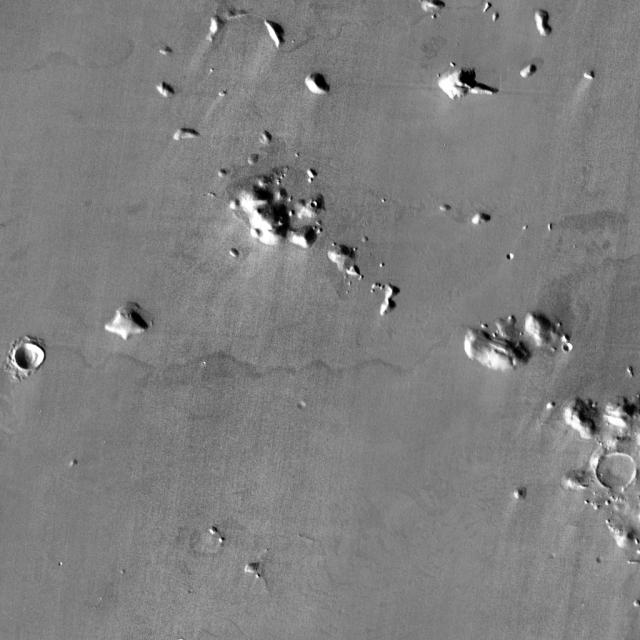crater: (214, 13, 282, 75), (597, 450, 639, 490), (18, 343, 46, 368), (564, 343, 574, 353), (298, 401, 308, 409)
